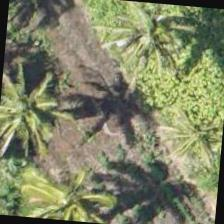Kelapa_Sawit: (101, 0, 199, 91), (0, 57, 78, 154), (23, 150, 119, 224), (153, 92, 223, 189)
